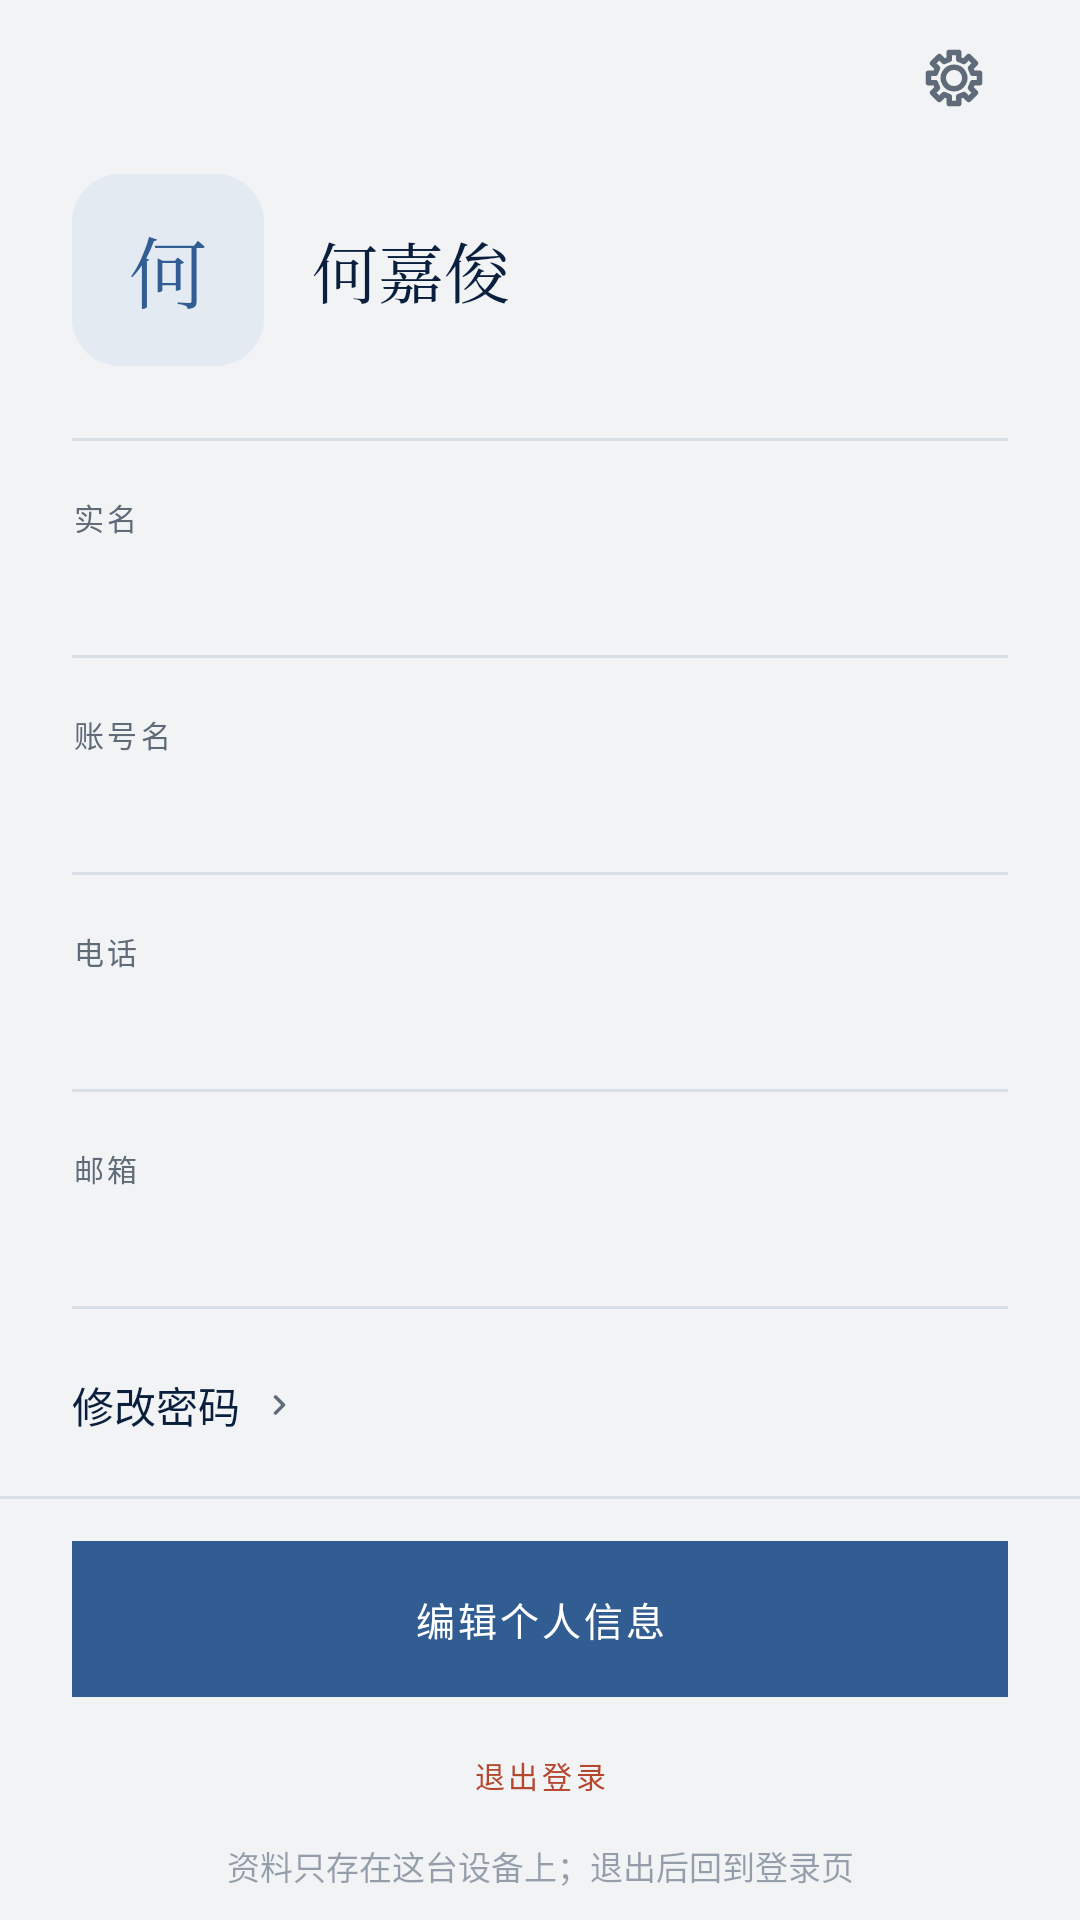

Screen size 1080*1920. Icon name, then its center in pixels as [x,y]:
设置: [954,78]
